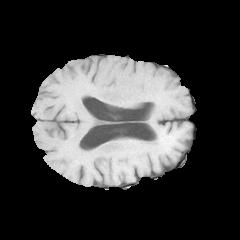glioma: (80, 135, 165, 167)
